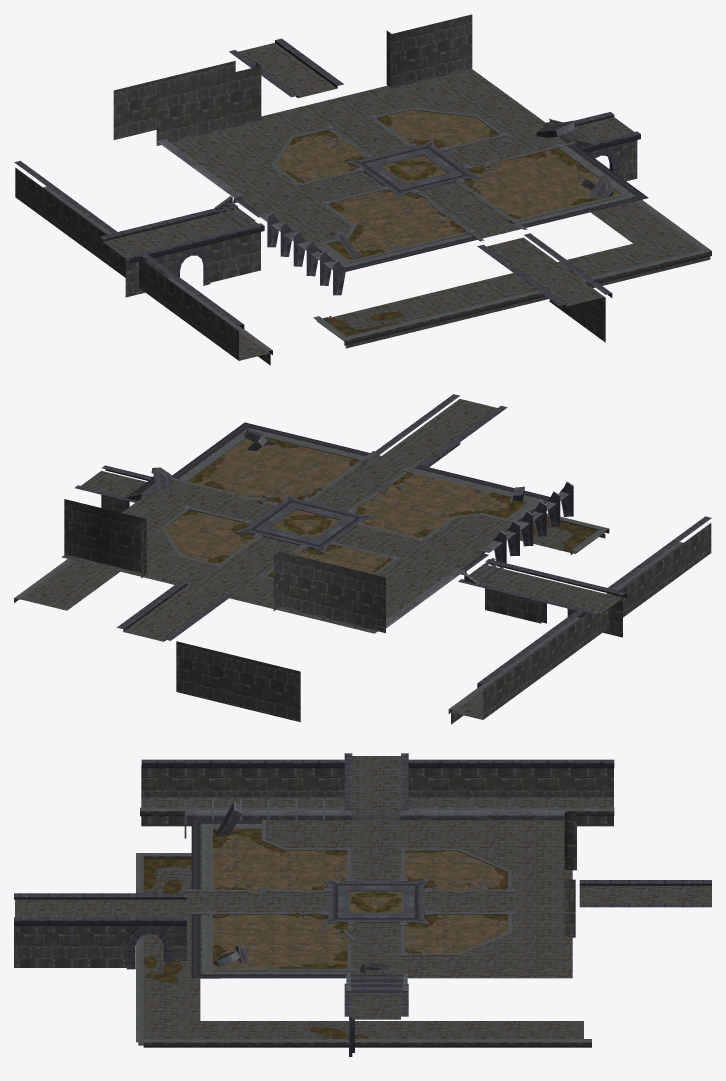
File: terrain_section02_guanka01.FBX
The picture shows the model from 3 angles, top to bottom: view 1: azimuth 30°, elevation 25°; view 2: azimuth 150°, elevation 25°; view 3: azimuth 270°, elevation 25°; orthographic projection. The views are drawn at different scales.
Visible parts, largest first — view 1: terrain_section02_guanka01; view 2: terrain_section02_guanka01; view 3: terrain_section02_guanka01.
Part boxes in pixels (x1,y1,x2,y2): terrain_section02_guanka01: (14, 14, 711, 365); terrain_section02_guanka01: (14, 394, 711, 724); terrain_section02_guanka01: (14, 753, 711, 1056).
Size of the model in its own units: 88.95 by 17.68 by 99.56.
